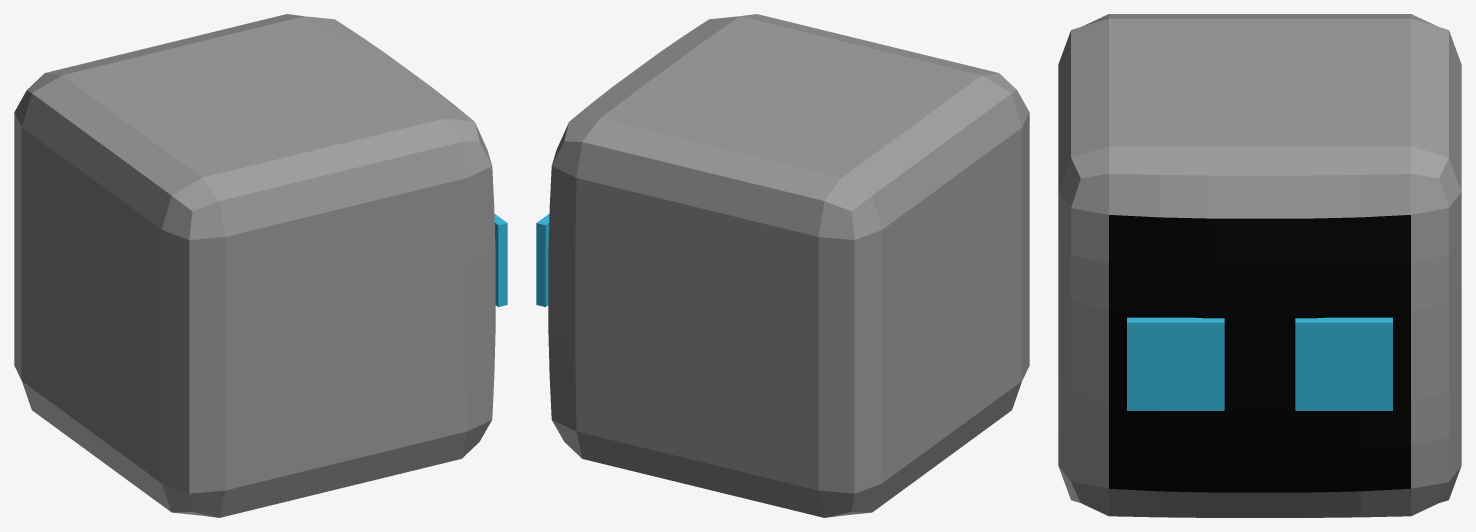
File: mascot.fbx
The picture shows the model from 3 angles, left to right: view 1: azimuth 30°, elevation 25°; view 2: azimuth 150°, elevation 25°; view 3: azimuth 270°, elevation 25°; orthographic projection. The views are drawn at different scales.
Visible parts, largest first — view 1: Mascot, Eye_R; view 2: Mascot, Eye_L; view 3: Mascot, Eye_L, Eye_R.
Part boxes in pixels (bbox=[...]): Mascot: bbox=[14, 14, 495, 517]; Eye_R: bbox=[494, 213, 507, 306]; Mascot: bbox=[548, 14, 1029, 517]; Eye_L: bbox=[536, 213, 549, 306]; Mascot: bbox=[1058, 14, 1461, 517]; Eye_L: bbox=[1295, 317, 1392, 410]; Eye_R: bbox=[1127, 317, 1224, 410].
Bounding box in the file's own units: 219 × 200 × 200.
